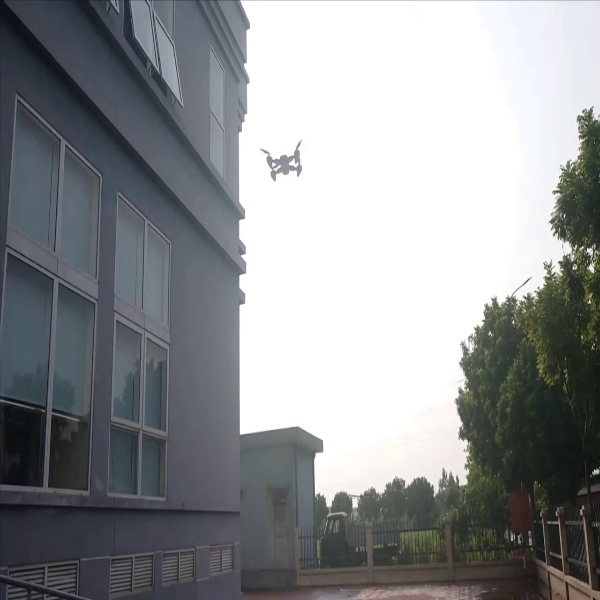drone: (257, 136, 314, 187)
